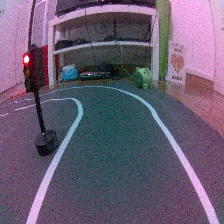red: (22, 43, 61, 157)
